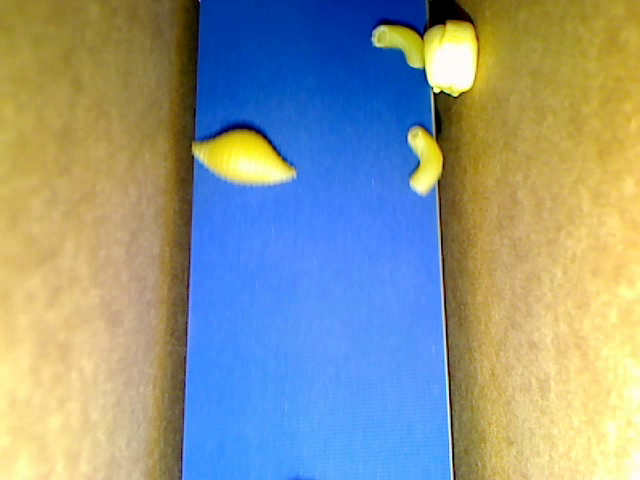elbow: (406, 125, 443, 196), (370, 23, 425, 68)
shell: (189, 128, 297, 184)
